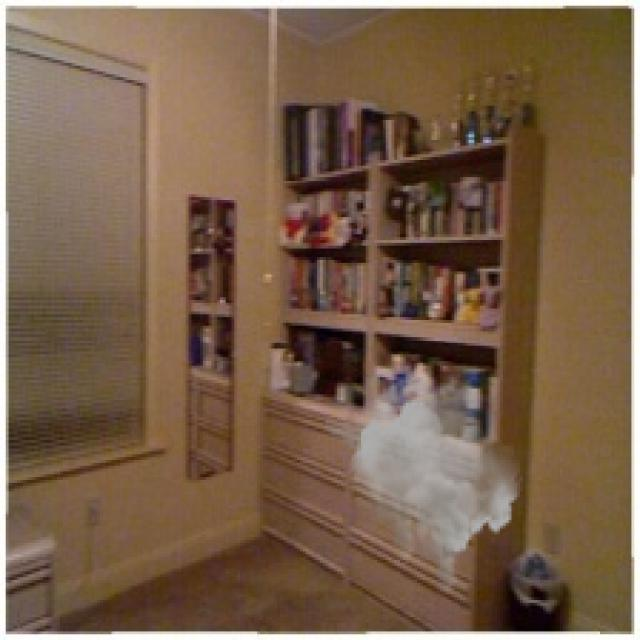smoke: (323, 369, 523, 597)
